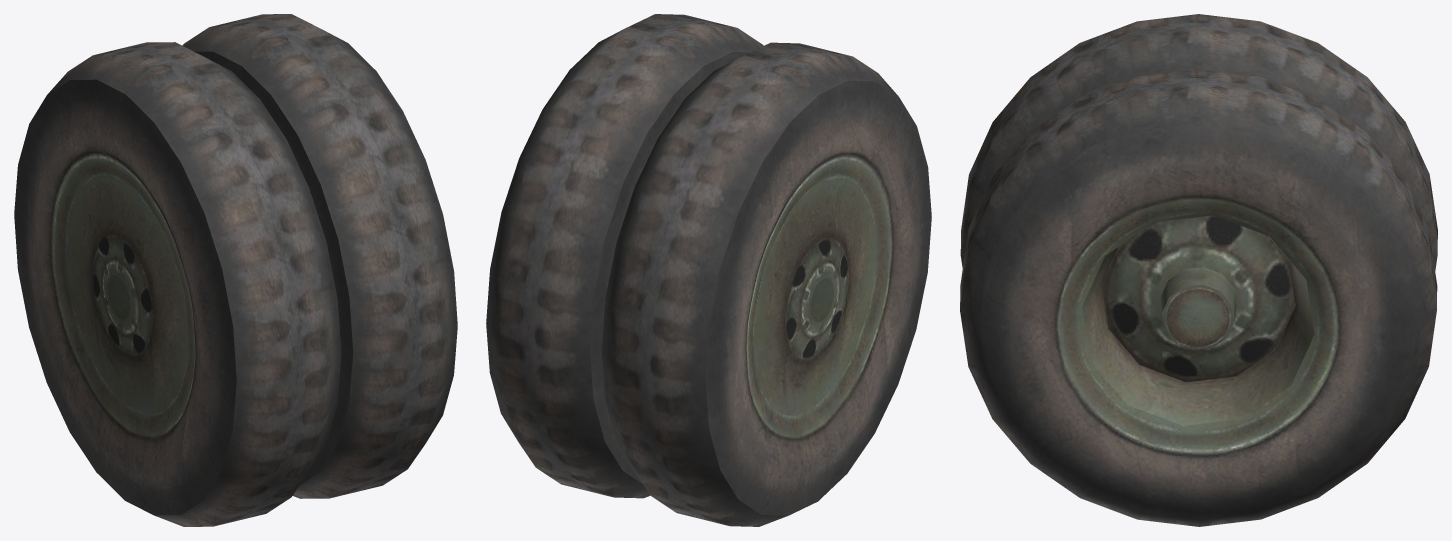
File: rear_left_wheel.obj
3 views of the same model, side by side, from view 1: azimuth 30°, elevation 25°; view 2: azimuth 150°, elevation 25°; view 3: azimuth 270°, elevation 25° (orthographic). The views are drawn at different scales.
Parts seen in each view (by area): view 1: armytruck.003; view 2: armytruck.003; view 3: armytruck.003.
Part boxes in pixels (x1,y1,x2,y2): armytruck.003: (14,14,457,526); armytruck.003: (486,14,931,526); armytruck.003: (960,14,1437,526).
Bounding box in the file's own units: 1.57 × 2.77 × 2.78.
Materials: 1 (1 with a texture image).
